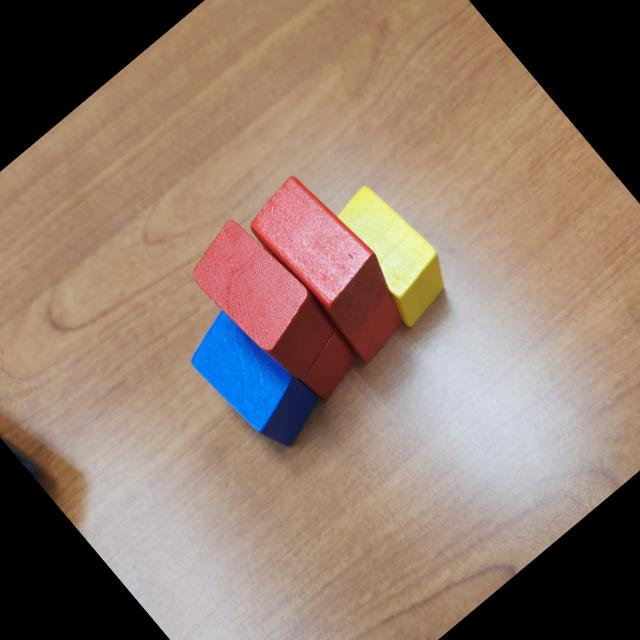blue: (176, 296, 334, 462)
red: (178, 208, 351, 392), (238, 166, 406, 344), (286, 324, 369, 406), (338, 291, 416, 365)
yellow: (320, 174, 466, 330)
